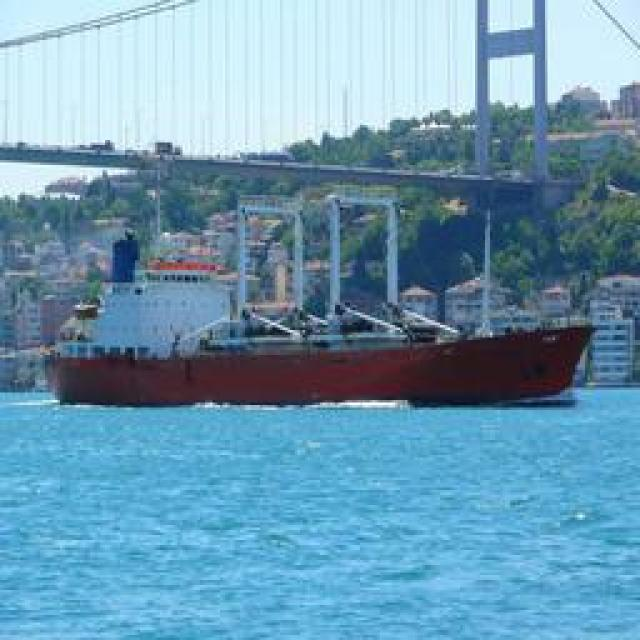CIV_Ship: (42, 282, 616, 412)
